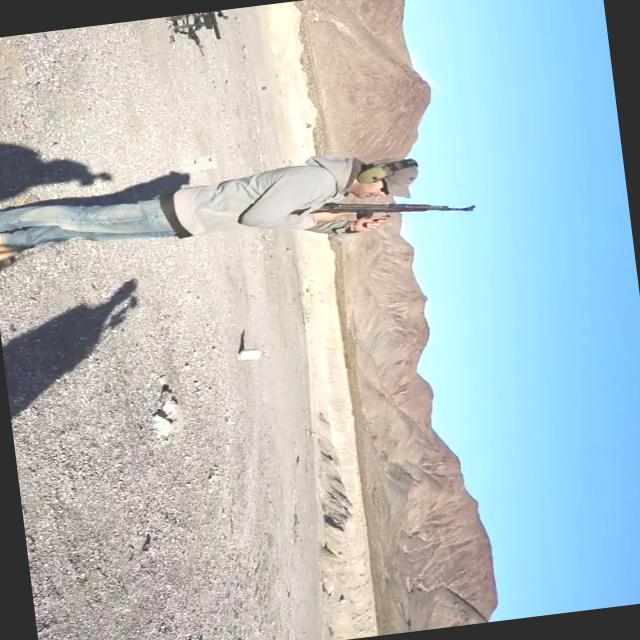long weapon: (283, 182, 480, 251)
